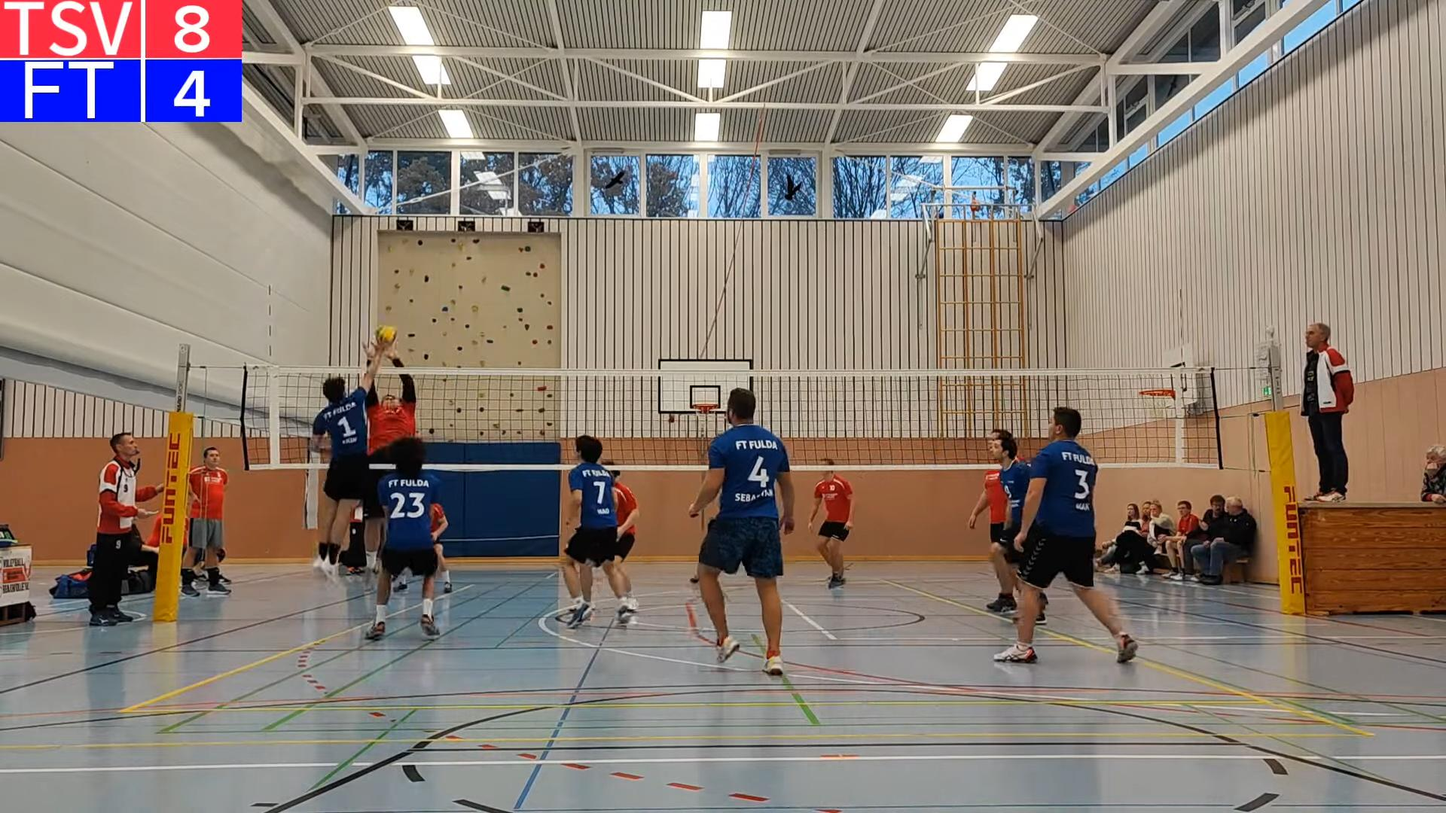attacco: (304, 343, 385, 586)
muro: (354, 340, 423, 452)
